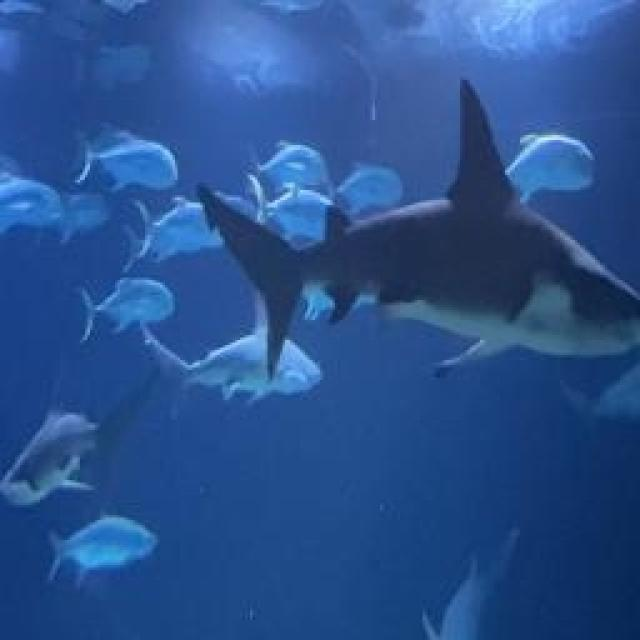primary: (195, 78, 639, 386), (196, 78, 640, 376)
shark: (2, 378, 158, 503), (140, 315, 324, 405), (422, 530, 520, 640)
